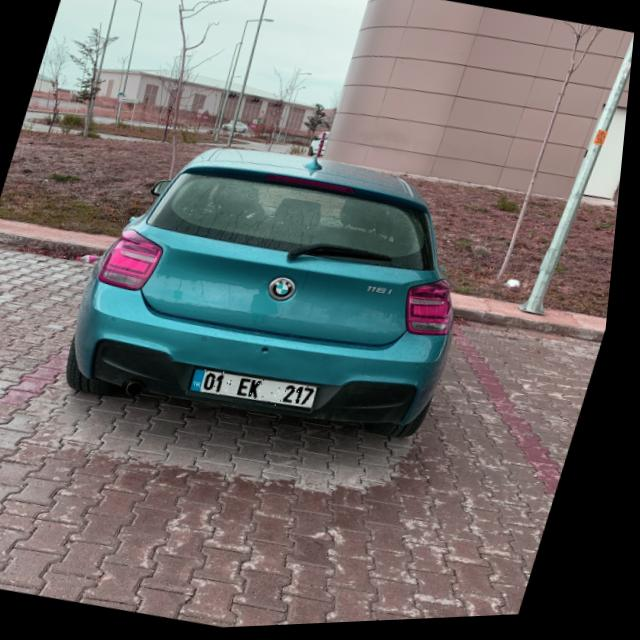license_plate: (193, 364, 327, 419)
